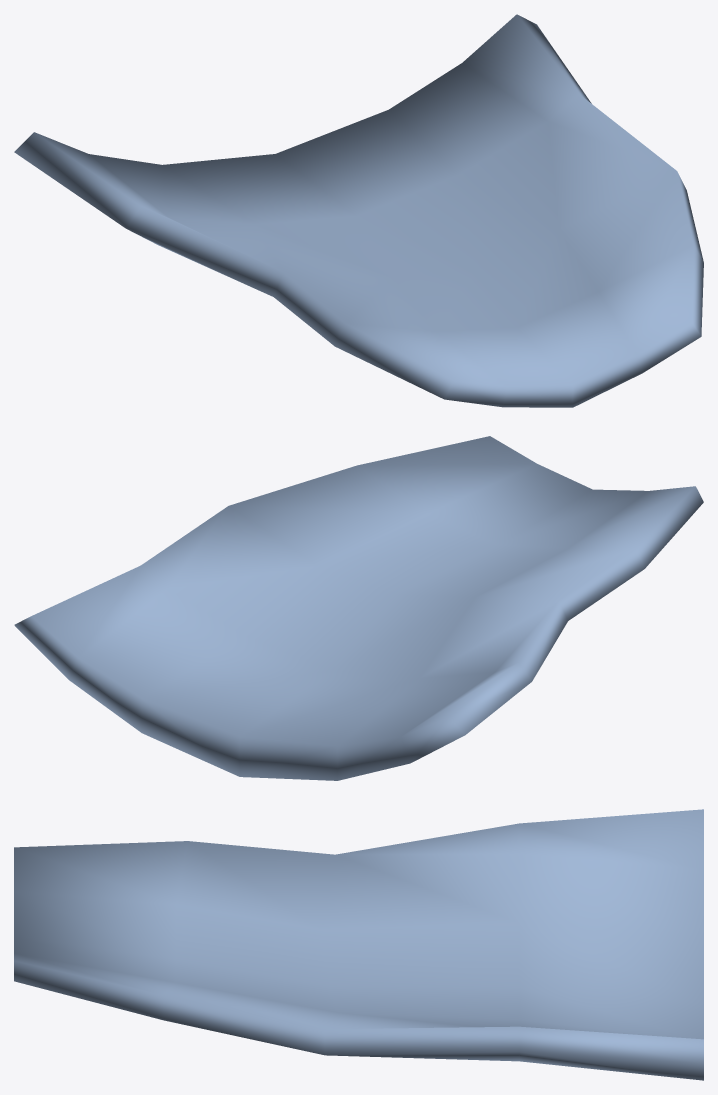
Rendered from junRoadConnector2p5to5.fbx.
3 views of the same model, one above another, from view 1: azimuth 30°, elevation 25°; view 2: azimuth 150°, elevation 25°; view 3: azimuth 270°, elevation 25° (orthographic). The views are drawn at different scales.
Parts seen in each view (by area): view 1: junRoadConnector2p5to5_LOD0; view 2: junRoadConnector2p5to5_LOD0; view 3: junRoadConnector2p5to5_LOD0.
Part boxes in pixels (x1,y1,x2,y2): junRoadConnector2p5to5_LOD0: [14, 14, 703, 407]; junRoadConnector2p5to5_LOD0: [14, 436, 703, 780]; junRoadConnector2p5to5_LOD0: [14, 809, 703, 1080].
Size of the model in its own units: 646 by 150 by 756.
